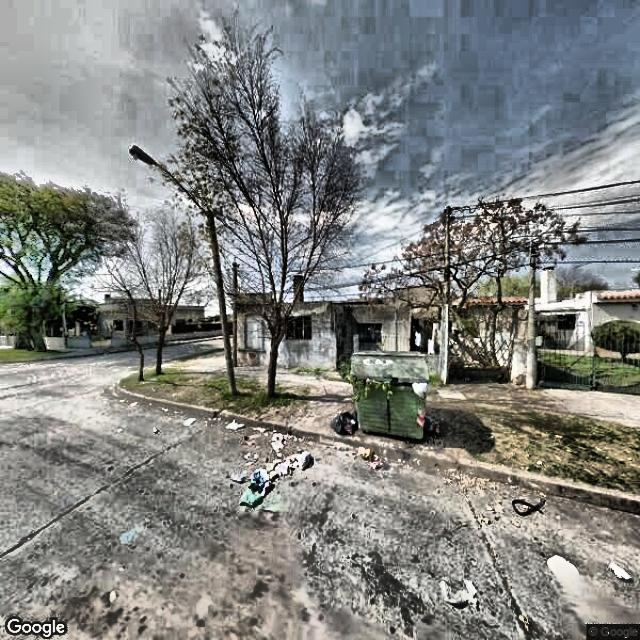garbage: (352, 355, 432, 441), (239, 447, 314, 509), (221, 417, 296, 445), (505, 492, 546, 522), (329, 406, 362, 438)
